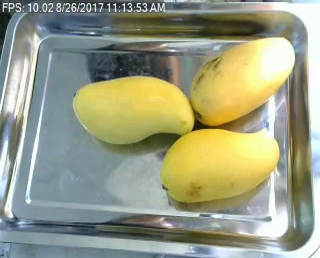Mango: (188, 33, 294, 126), (70, 71, 196, 148), (158, 128, 282, 201)
